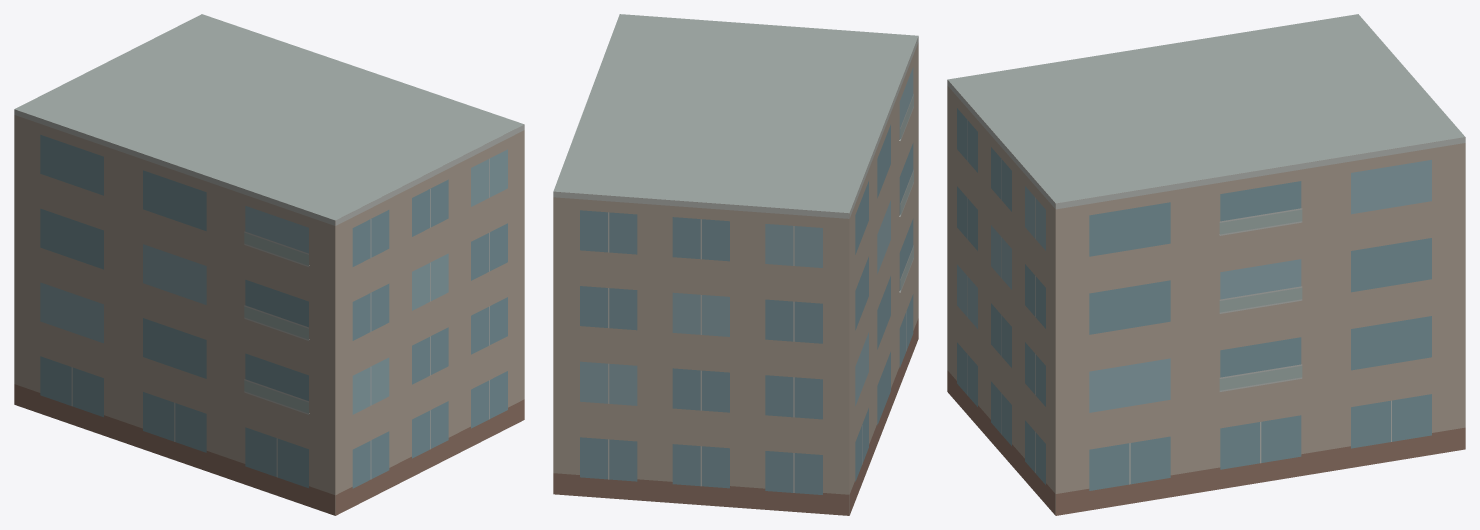
Rendered from survey-upis-32867717.glb.
3 views of the same model, side by side, from view 1: azimuth 30°, elevation 25°; view 2: azimuth 150°, elevation 25°; view 3: azimuth 270°, elevation 25° (orthographic). The views are drawn at different scales.
Parts seen in each view (by area): view 1: survey-upis-32867717.tmp; view 2: survey-upis-32867717.tmp; view 3: survey-upis-32867717.tmp.
Part boxes in pixels (left/top/right/bottom): survey-upis-32867717.tmp: left=14, top=14, right=524, bottom=515; survey-upis-32867717.tmp: left=553, top=14, right=918, bottom=515; survey-upis-32867717.tmp: left=947, top=14, right=1465, bottom=515.
Size of the model in its own units: 16.8 by 12.9 by 19.4.
